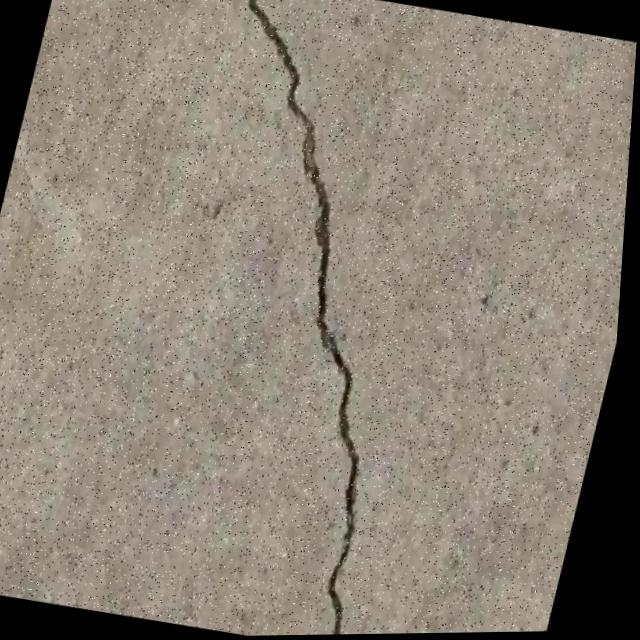Crack: (103, 0, 507, 638)
